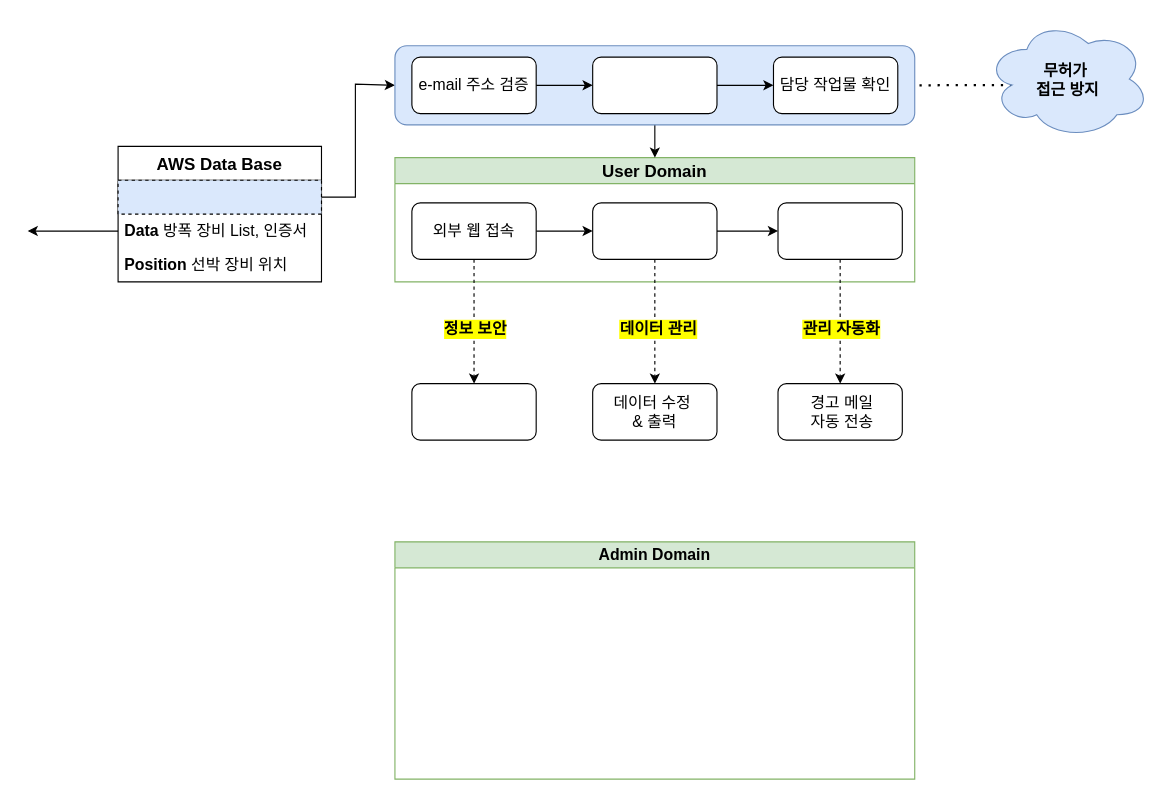
The diagram is 1170 pixels wide and 799 high, and some of its shapes have lost their labels. The centre of each missing label's shape, as x and y in pixels:
"Admin 소속, 연락처 e-mail" belongs at point 219,196.
"Login PW 생성" belongs at point 654,85.
"내부 관리망 접속 차단" belongs at point 473,411.
"입력 상태 저장" belongs at point 839,230.
"장비 정보 입력" belongs at point 654,230.
